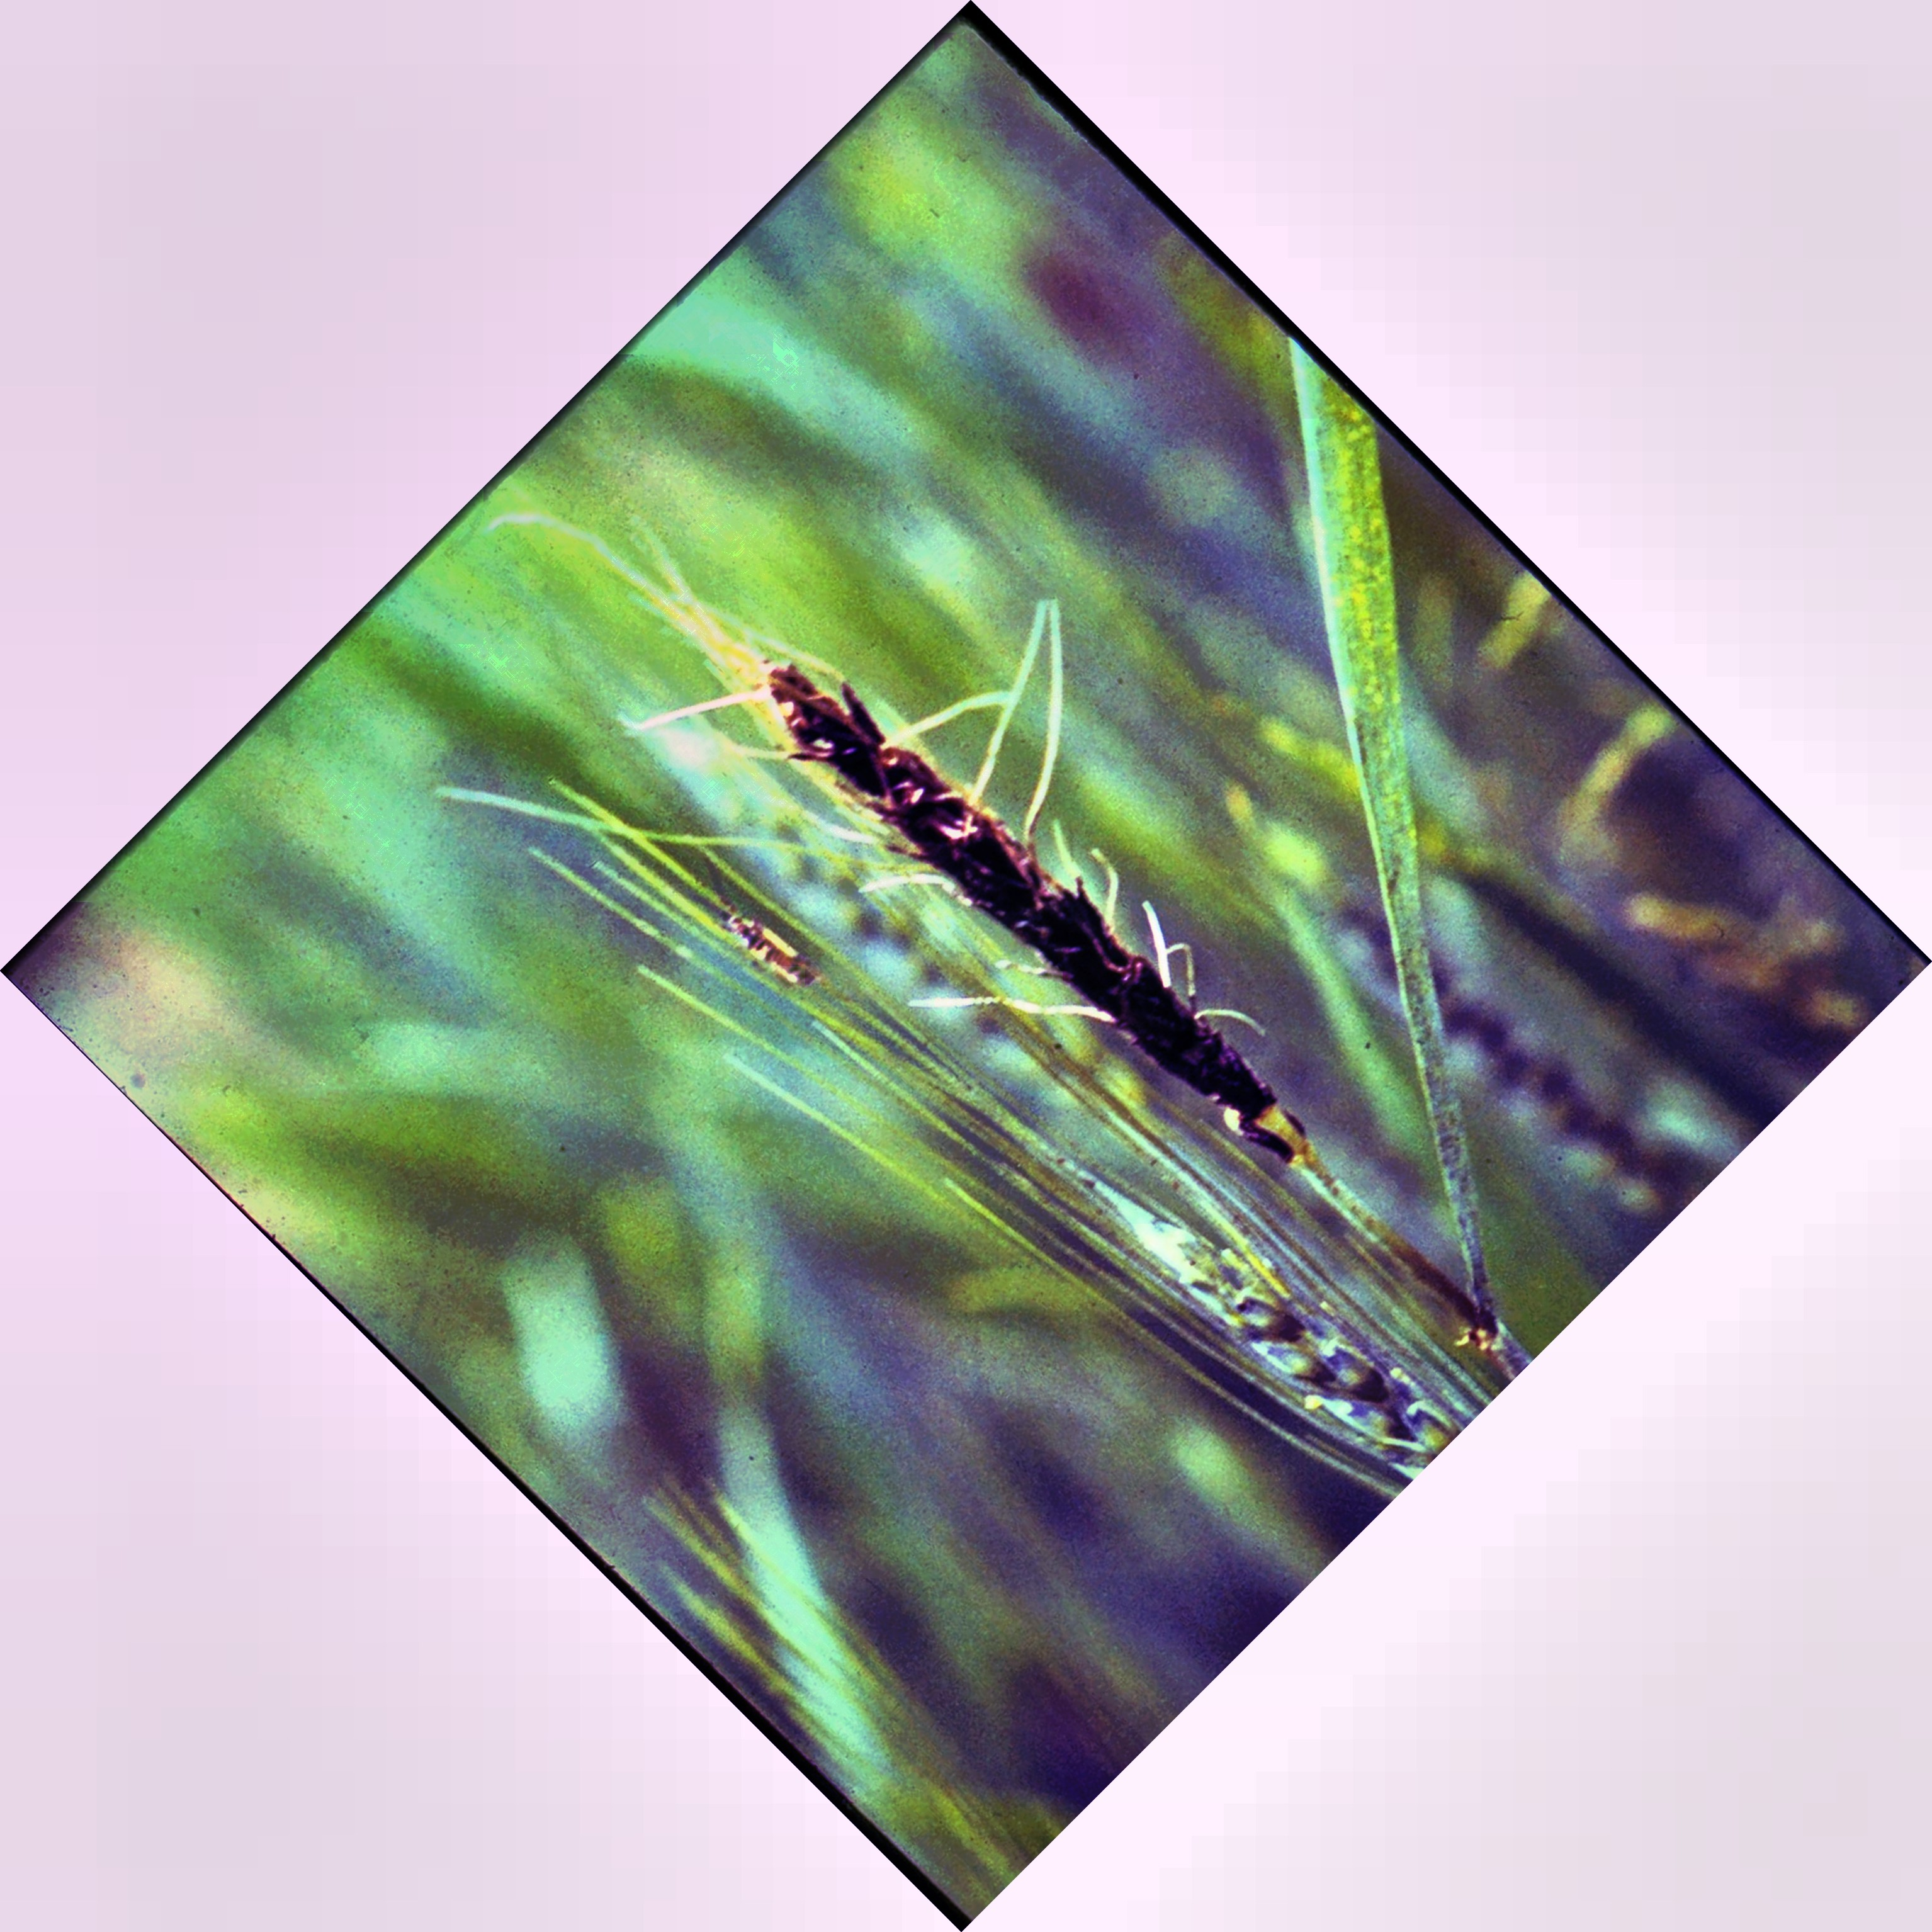Wheat Loose Smut: (766, 674, 1309, 1076)
